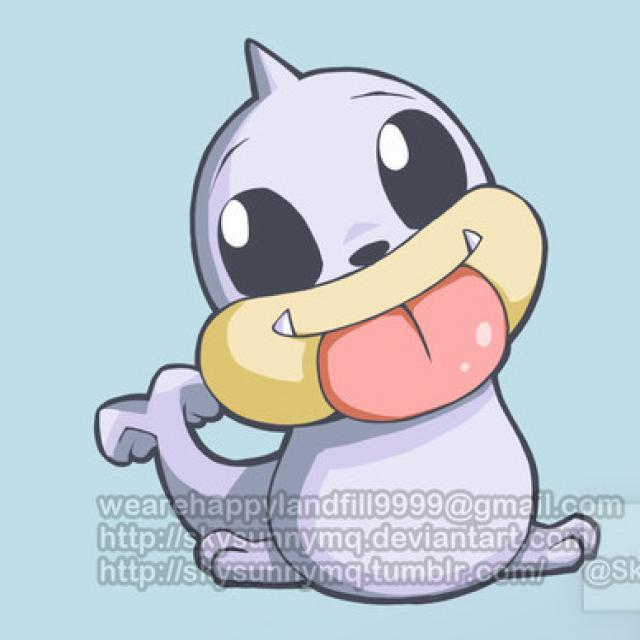Seel: (180, 37, 582, 596)
